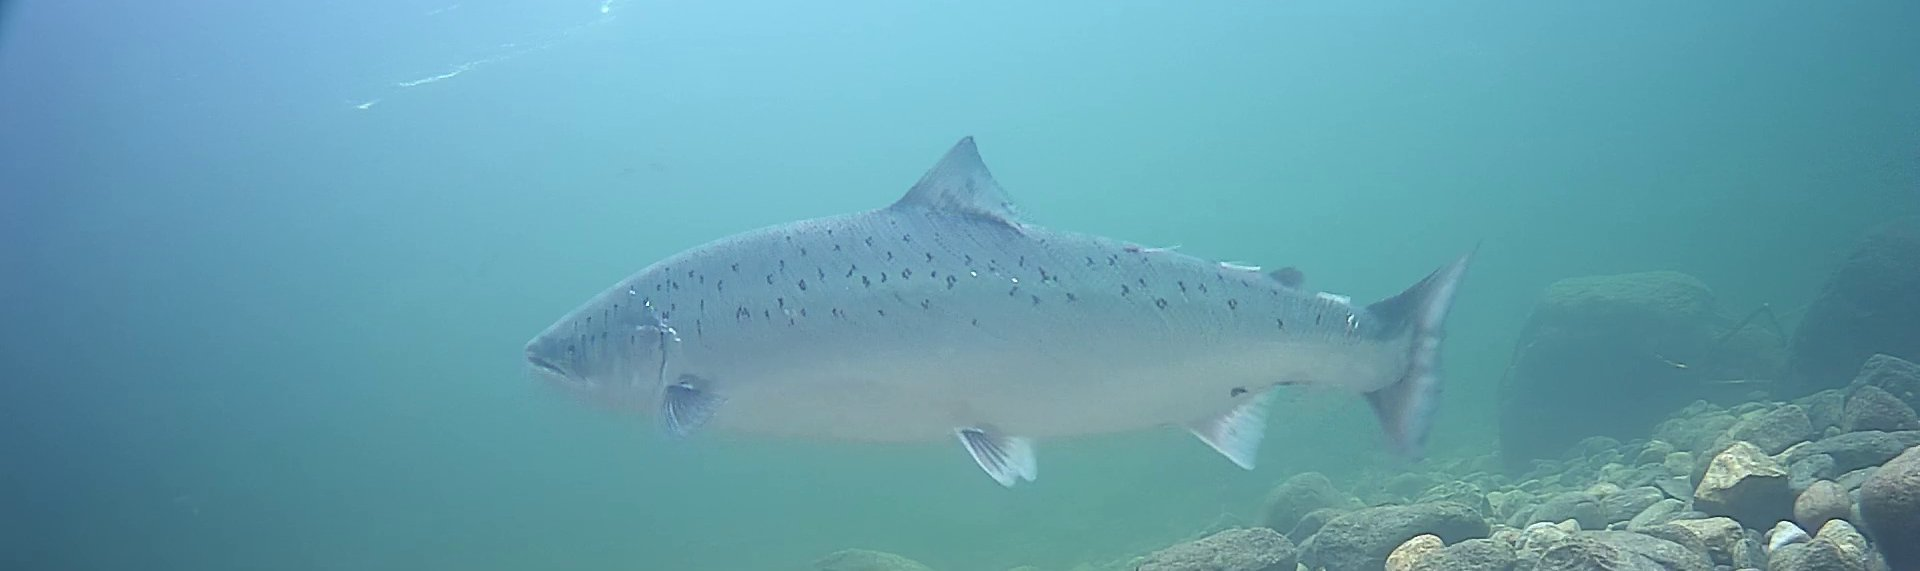salmon: (516, 129, 1480, 490)
